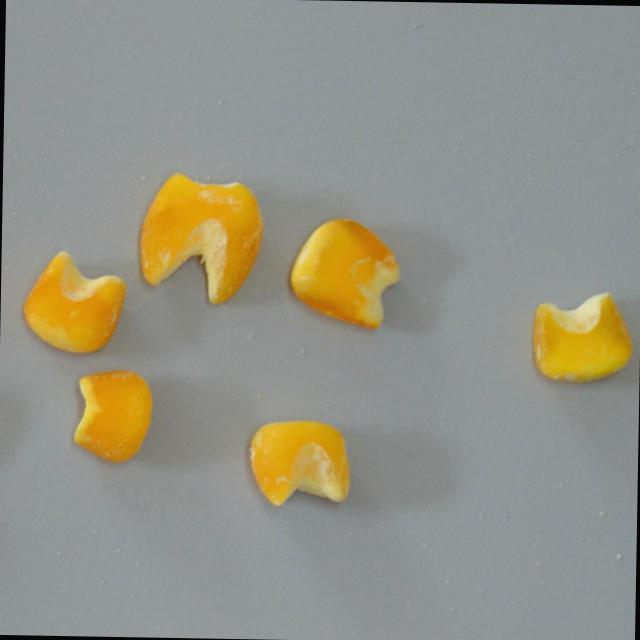dañado: (137, 169, 269, 310), (284, 210, 406, 336), (18, 246, 131, 357), (524, 286, 637, 392), (65, 365, 158, 468)
punto_negro: (246, 414, 356, 509)
